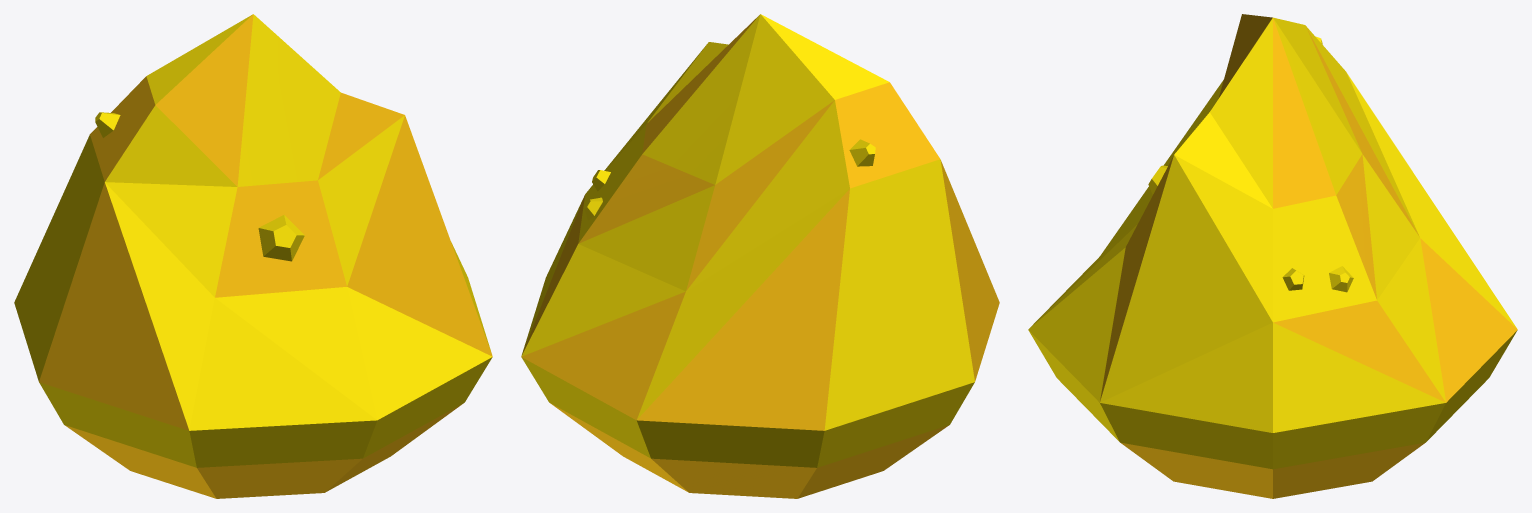
Rendered from Sulfur.fbx.
3 views of the same model, side by side, from view 1: azimuth 30°, elevation 25°; view 2: azimuth 150°, elevation 25°; view 3: azimuth 270°, elevation 25° (orthographic).
Parts seen in each view (by area): view 1: Sulfur; view 2: Sulfur; view 3: Sulfur.
Part boxes in pixels (box(x1,y1,x2,y2)): Sulfur: box(14, 14, 492, 498); Sulfur: box(521, 14, 999, 498); Sulfur: box(1028, 14, 1517, 498).
Size of the model in its own units: 0.1296 by 0.1296 by 0.1232.
